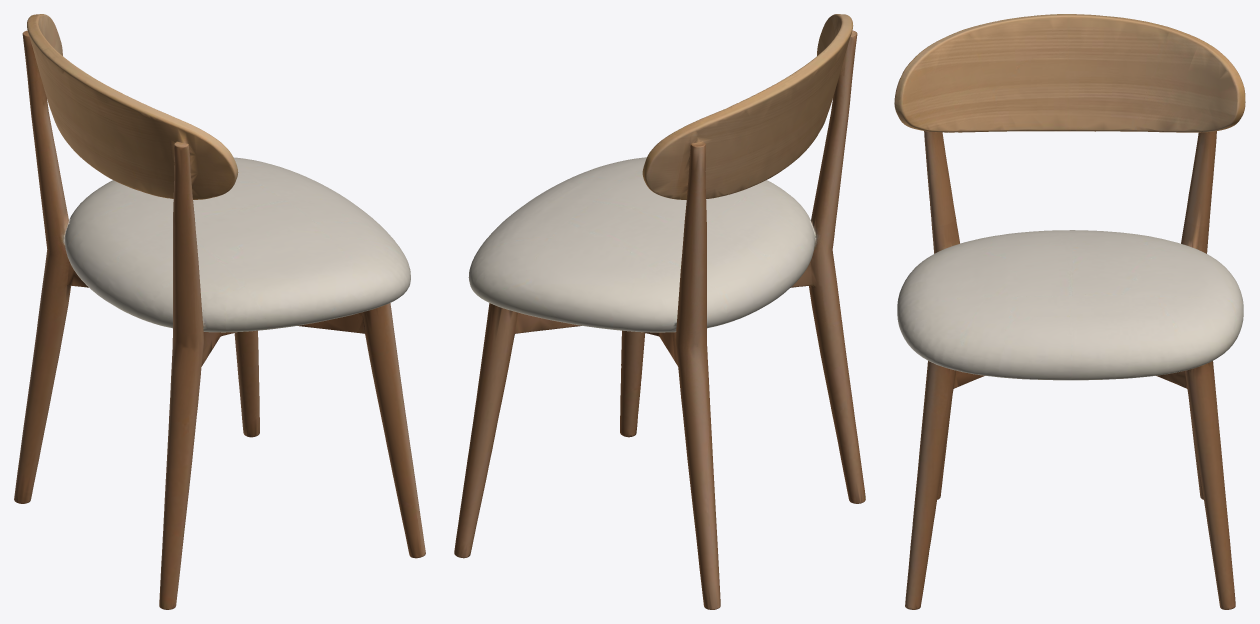
Rendered from JP_사물_s2_chair_old.glb.
3 renders of one model, left to right at view 1: azimuth 30°, elevation 25°; view 2: azimuth 150°, elevation 25°; view 3: azimuth 270°, elevation 25°, orthographic. The views are drawn at different scales.
Parts seen in each view (by area): view 1: tripo_node_0e373f89-3250-404a-aa8c-ac571e8e592b; view 2: tripo_node_0e373f89-3250-404a-aa8c-ac571e8e592b; view 3: tripo_node_0e373f89-3250-404a-aa8c-ac571e8e592b.
Boxes of the visible parts, x1,y1,x2,y2 form: tripo_node_0e373f89-3250-404a-aa8c-ac571e8e592b: (14, 14, 425, 609); tripo_node_0e373f89-3250-404a-aa8c-ac571e8e592b: (454, 14, 865, 609); tripo_node_0e373f89-3250-404a-aa8c-ac571e8e592b: (894, 14, 1245, 609).
Bounding box in the file's own units: 0.6407 × 0.9999 × 0.6749.
1 material, 1 textured.
